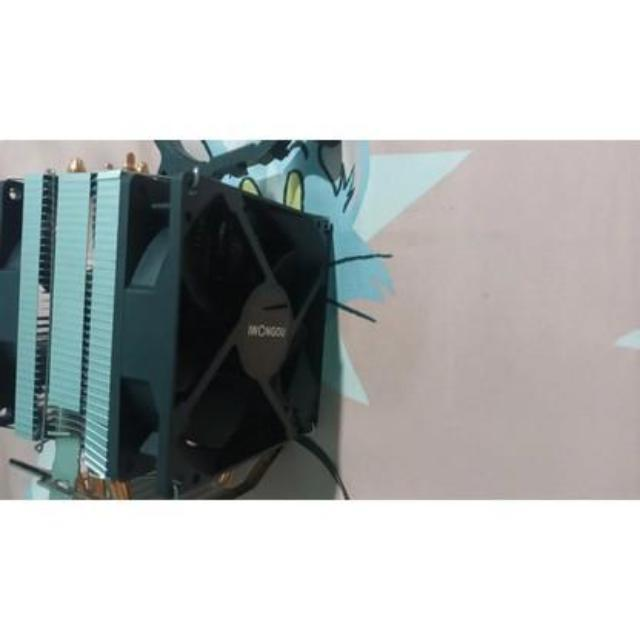CPU_Fan: (0, 164, 326, 488)
